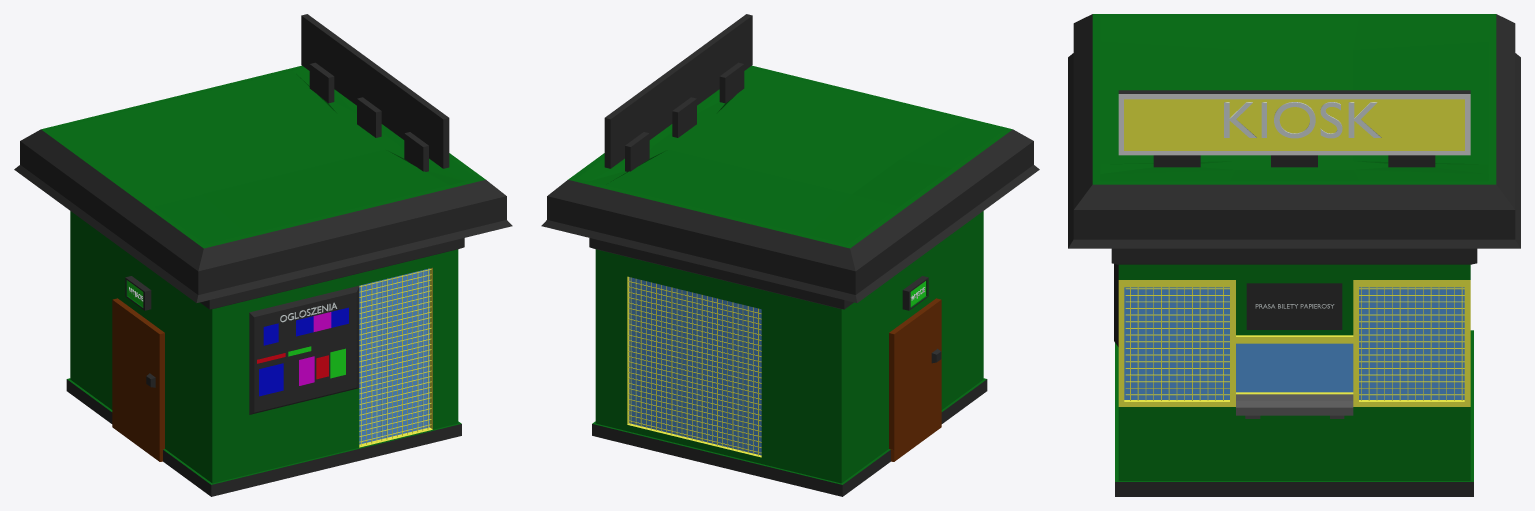
Rendered from Kiosk.fbx.
The picture shows the model from 3 angles, left to right: view 1: azimuth 30°, elevation 25°; view 2: azimuth 150°, elevation 25°; view 3: azimuth 270°, elevation 25°; orthographic projection. The views are drawn at different scales.
Parts seen in each view (by area): view 1: Cube, Cube.001; view 2: Cube, Cube.004; view 3: Cube, Cube.003, Cube.002, Text.001.
Boxes of the visible parts, <box> form: Cube: <box>14,14,512,496</box>; Cube.001: <box>359,268,431,445</box>; Cube: <box>541,14,1039,496</box>; Cube.004: <box>628,277,761,455</box>; Cube: <box>1068,14,1520,496</box>; Cube.003: <box>1359,287,1464,400</box>; Cube.002: <box>1125,287,1229,400</box>; Text.001: <box>1224,102,1381,138</box>.
Size of the model in its own units: 257 by 248 by 257.
